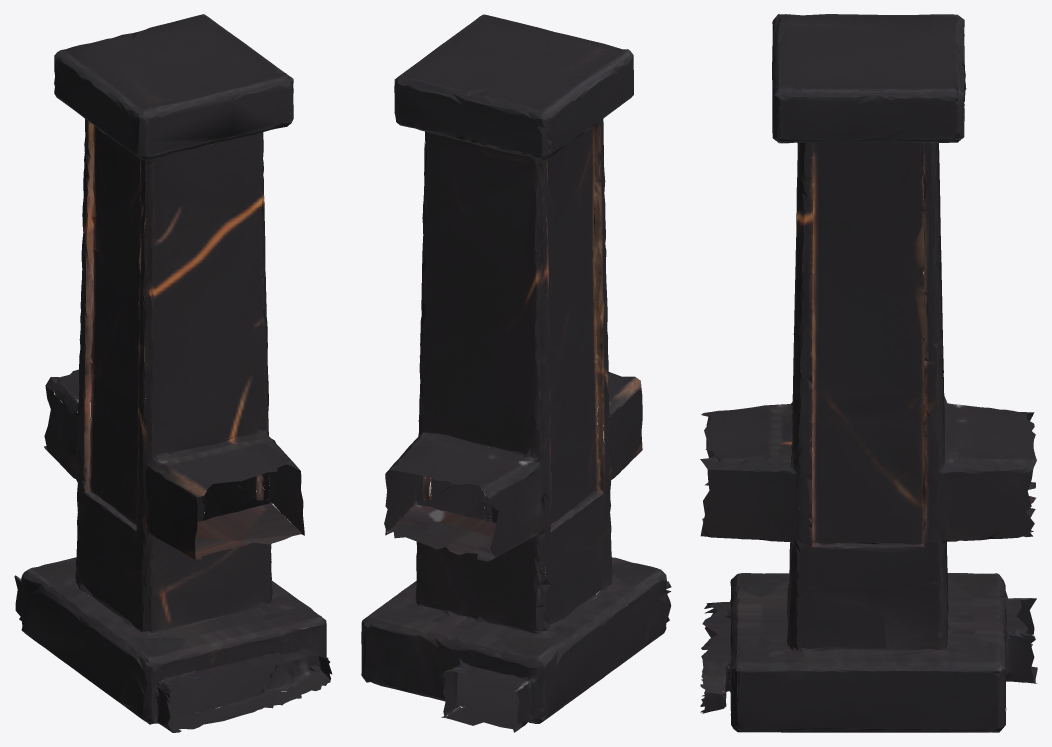
Rendered from Forge_Column.glb.
3 renders of one model, left to right at view 1: azimuth 30°, elevation 25°; view 2: azimuth 150°, elevation 25°; view 3: azimuth 270°, elevation 25°, orthographic. The views are drawn at different scales.
Parts seen in each view (by area): view 1: Forge_Column; view 2: Forge_Column; view 3: Forge_Column.
Boxes of the visible parts, <box> form: Forge_Column: <box>14,14,332,732</box>; Forge_Column: <box>361,14,671,732</box>; Forge_Column: <box>700,14,1037,732</box>.
Bounding box in the file's own units: 0.9679 × 3 × 1.44.
1 material, 1 textured.
